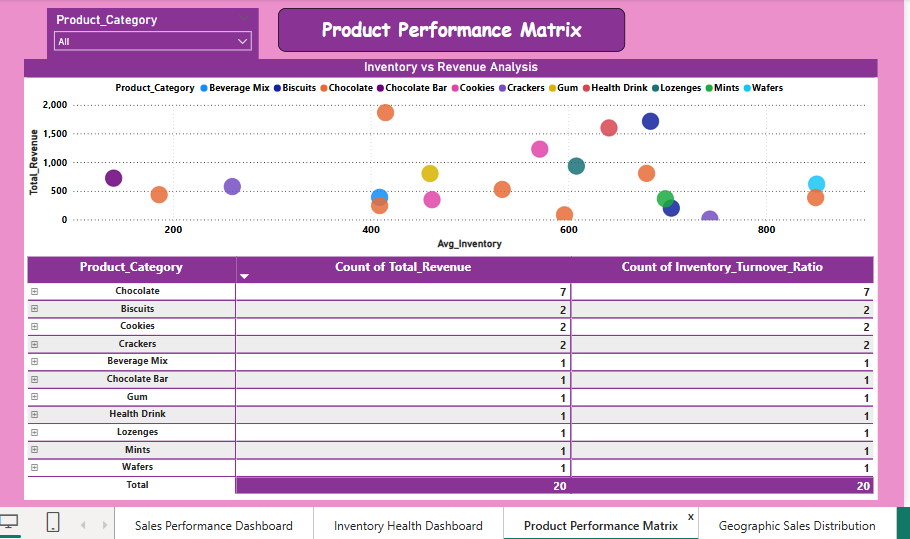

The dashboard page shown, as its layout file describes it:
{"tool":"powerbi","page":{"name":"Product Performance Matrix","canvas":[1280,720],"ordinal":2},"visuals":[{"type":"pivotTable","fields":{"Rows":["vw_Product_Performance.Product_Category","vw_Product_Performance.Product_Name"],"Values":["CountNonNull(vw_Product_Performance.Total_Revenue)","CountNonNull(vw_Product_Performance.Inventory_Turnover_Ratio)"]},"box":[34.2,360.4,1210.1,349.5],"z":0},{"type":"scatterChart","title":"Inventory vs Revenue Analysis","fields":{"X":["vw_Product_Performance.Avg_Inventory"],"Y":["vw_Product_Performance.Total_Revenue"],"Size":["CountNonNull(vw_Product_Performance.Sales_Count)"],"Series":["vw_Product_Performance.Product_Category"]},"box":[34.2,85.4,1210.1,275],"z":1000},{"type":"textbox","box":[394.6,12.4,492.4,62.1],"z":2000},{"type":"slicer","fields":{"Values":["vw_Product_Performance.Product_Category"]},"box":[66.5,13,300.1,73],"z":3000}]}

Visuals, with their boxes on the page's 1280x720 design canvas (x1, y1, x2, y2). These are canvas units, not pixel positions in the 910x539 screenshot, which may show the page scaled, cropped or inside an application window:
pivotTable - vw_Product_Performance.Product_Category x vw_Product_Performance.Product_Name: 34:360:1244:710
"Inventory vs Revenue Analysis" scatterChart: 34:85:1244:360
textbox: 395:12:887:74
slicer - vw_Product_Performance.Product_Category: 66:13:367:86
